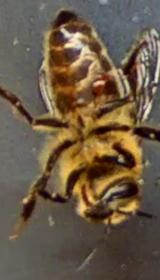varroa_mite: (87, 68, 121, 100)
